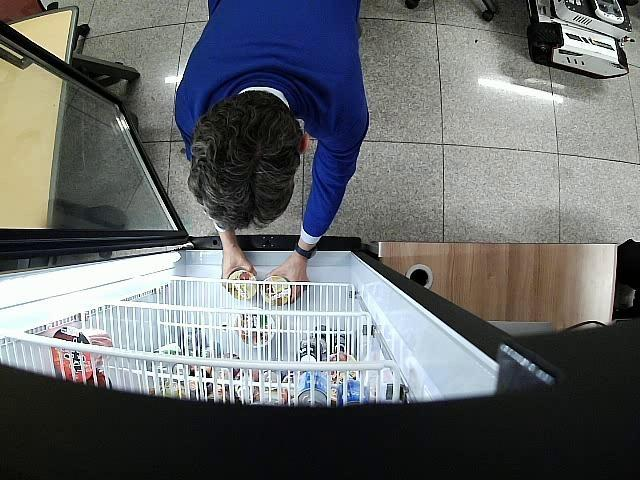04_chapagetti_S: (260, 276, 292, 306), (228, 270, 258, 300)
